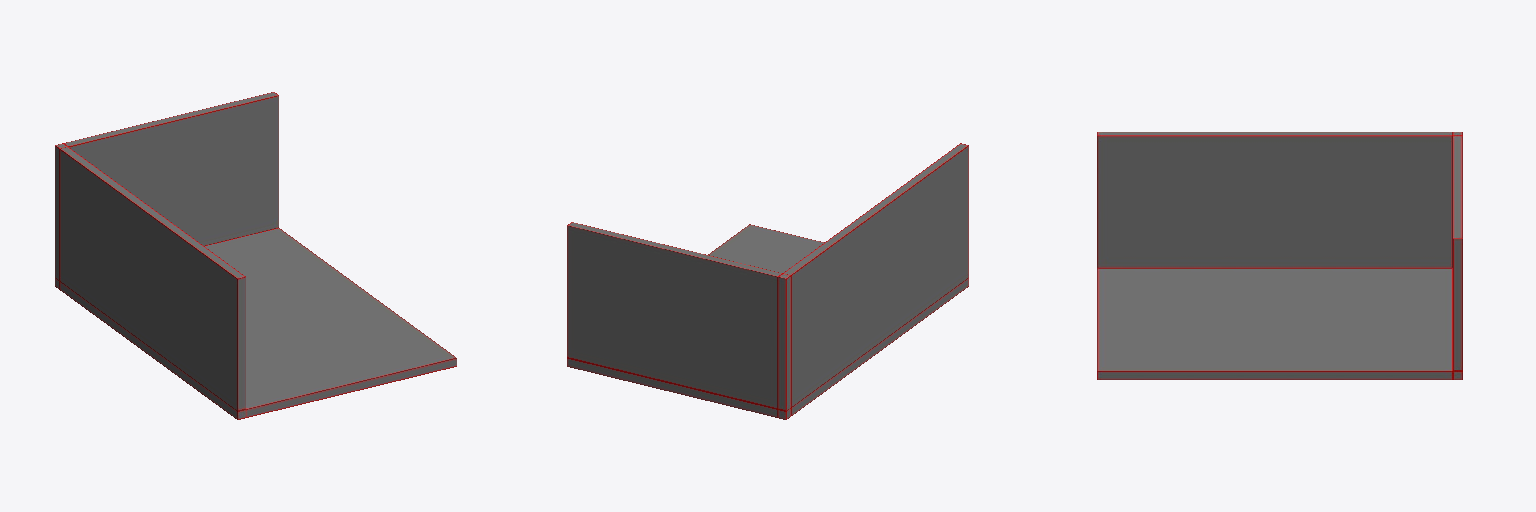
The picture shows the model from 3 angles: view 1: azimuth 30°, elevation 25°; view 2: azimuth 150°, elevation 25°; view 3: azimuth 270°, elevation 25°; orthographic projection.
Parts seen in each view (by area): view 1: room2; view 2: room2; view 3: room2.
Boxes of the visible parts, x1,y1,x2,y2 form: room2: [55, 92, 456, 419]; room2: [567, 143, 968, 419]; room2: [1097, 132, 1462, 379].
Bounding box in the file's own units: 520 × 320 × 750.
1 materials, 1 textured.